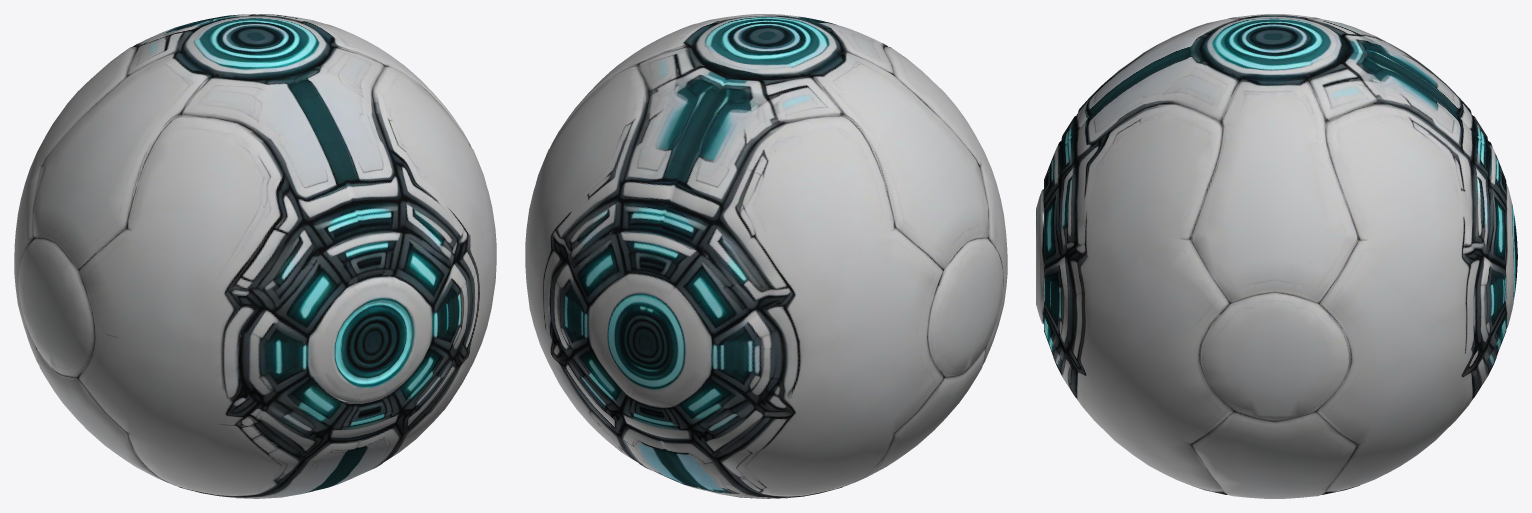
Rendered from Ball1.glb.
3 views of the same model, side by side, from view 1: azimuth 30°, elevation 25°; view 2: azimuth 150°, elevation 25°; view 3: azimuth 270°, elevation 25° (orthographic).
Parts seen in each view (by area): view 1: Ball1; view 2: Ball1; view 3: Ball1.
Part boxes in pixels (x1,y1,x2,y2): Ball1: (14,14,496,498); Ball1: (525,14,1007,498); Ball1: (1036,14,1517,498).
Bounding box in the file's own units: 1.9 × 1.9 × 1.88.
1 material, 1 textured.
